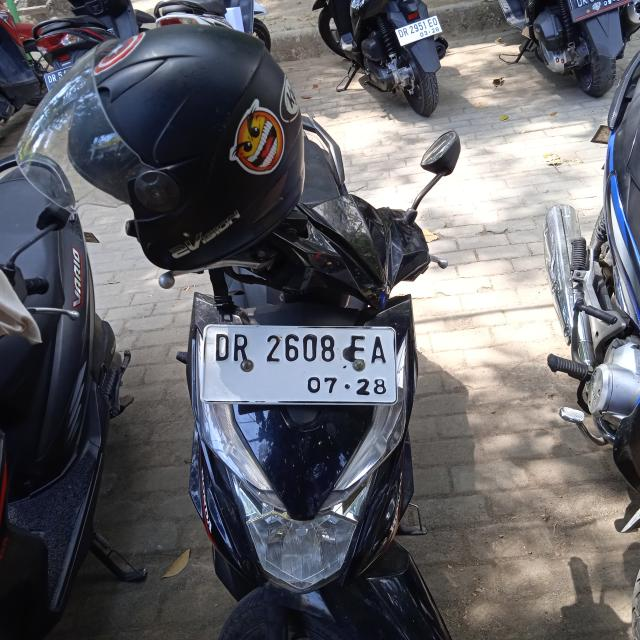plate: (203, 321, 401, 407), (395, 16, 442, 46)
